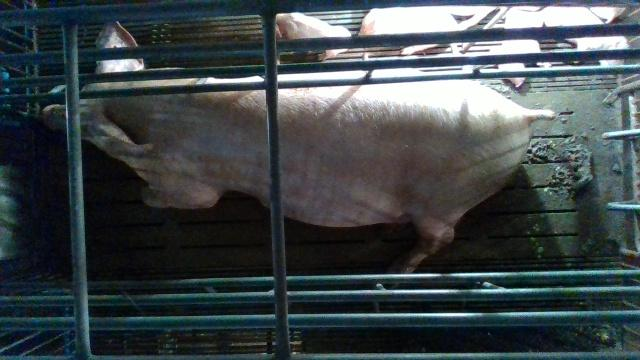piglet: (543, 6, 628, 65), (358, 9, 459, 56), (498, 8, 544, 88), (277, 13, 351, 60)
sow-sit: (35, 23, 554, 272)
